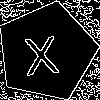X: (21, 26, 60, 76)
